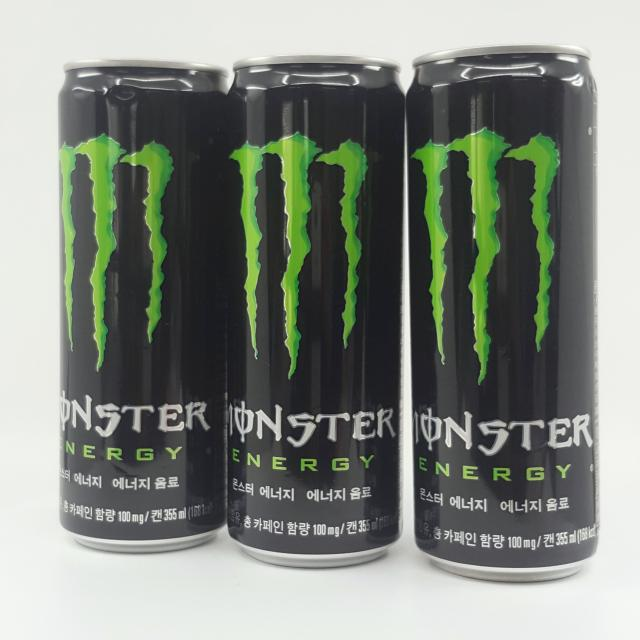--------355ML: (408, 43, 599, 583), (224, 56, 404, 567), (58, 58, 242, 552)
